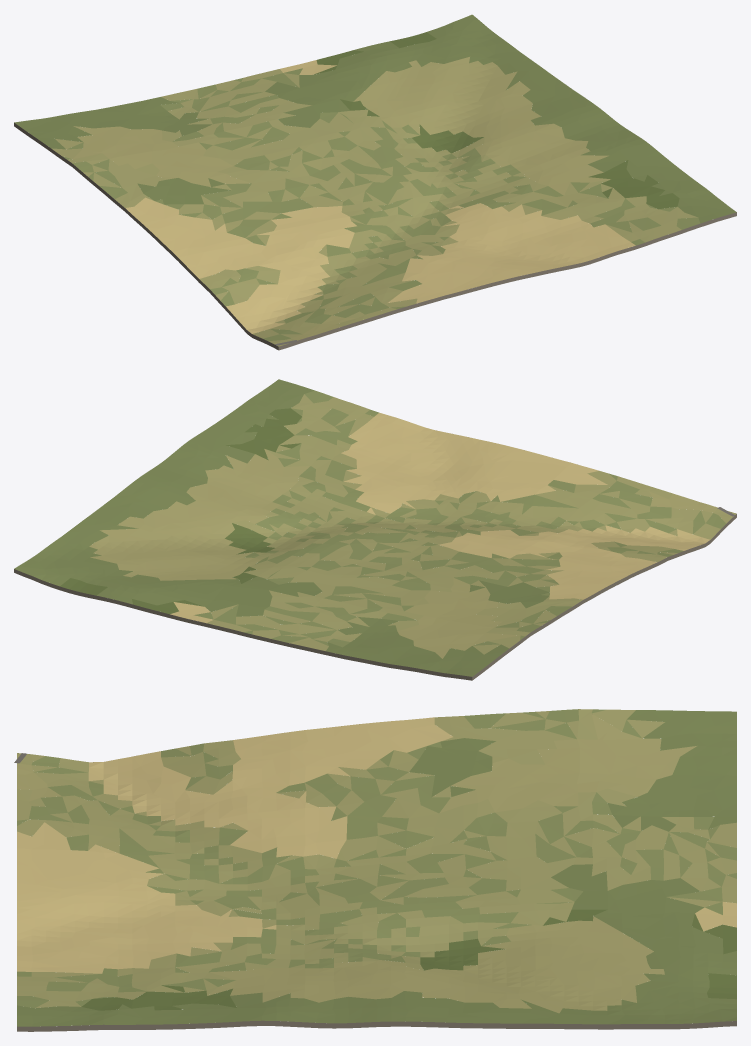
File: parca_+1_-8-uzak.glb
3 views of the same model, one above another, from view 1: azimuth 30°, elevation 25°; view 2: azimuth 150°, elevation 25°; view 3: azimuth 270°, elevation 25° (orthographic). The views are drawn at different scales.
Parts seen in each view (by area): view 1: parca_+1_-8_arazi_uzak; view 2: parca_+1_-8_arazi_uzak; view 3: parca_+1_-8_arazi_uzak.
Part boxes in pixels (x1=…): parca_+1_-8_arazi_uzak: x1=14, y1=14, x2=736, y2=350; parca_+1_-8_arazi_uzak: x1=14, y1=379, x2=736, y2=680; parca_+1_-8_arazi_uzak: x1=17, y1=709, x2=736, y2=1031.
Size of the model in its own units: 1001 by 89.43 by 1004.
